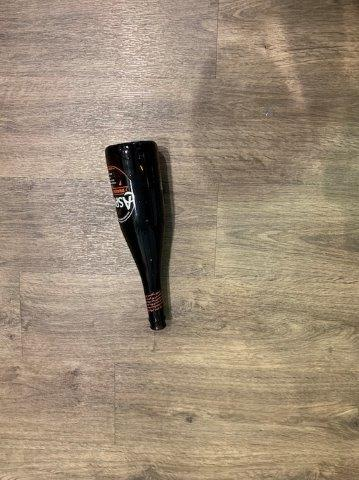botolkaca: (105, 141, 169, 331)
